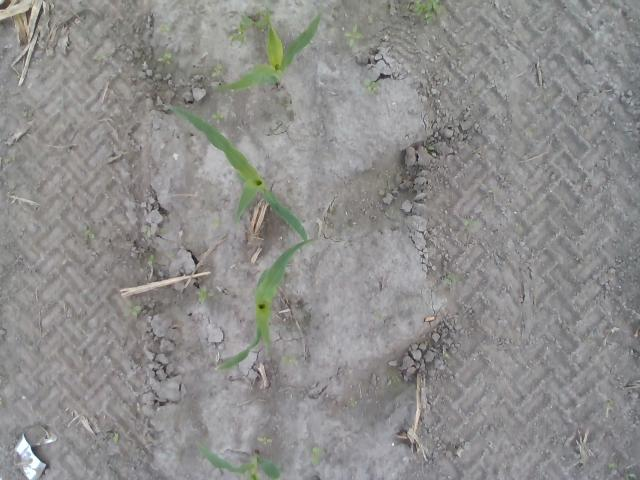Maize: (162, 103, 308, 243), (217, 236, 316, 373), (216, 13, 322, 96), (196, 446, 282, 480)
Weeds: (414, 0, 444, 25), (342, 23, 363, 49), (224, 24, 246, 44), (80, 224, 96, 241), (210, 110, 226, 125), (158, 52, 174, 66), (197, 287, 210, 303), (280, 355, 298, 366), (257, 436, 273, 448), (211, 63, 223, 78), (312, 447, 322, 465), (128, 304, 140, 318), (158, 23, 174, 33), (368, 81, 380, 94), (463, 218, 480, 226), (144, 253, 156, 264), (111, 432, 120, 442)
